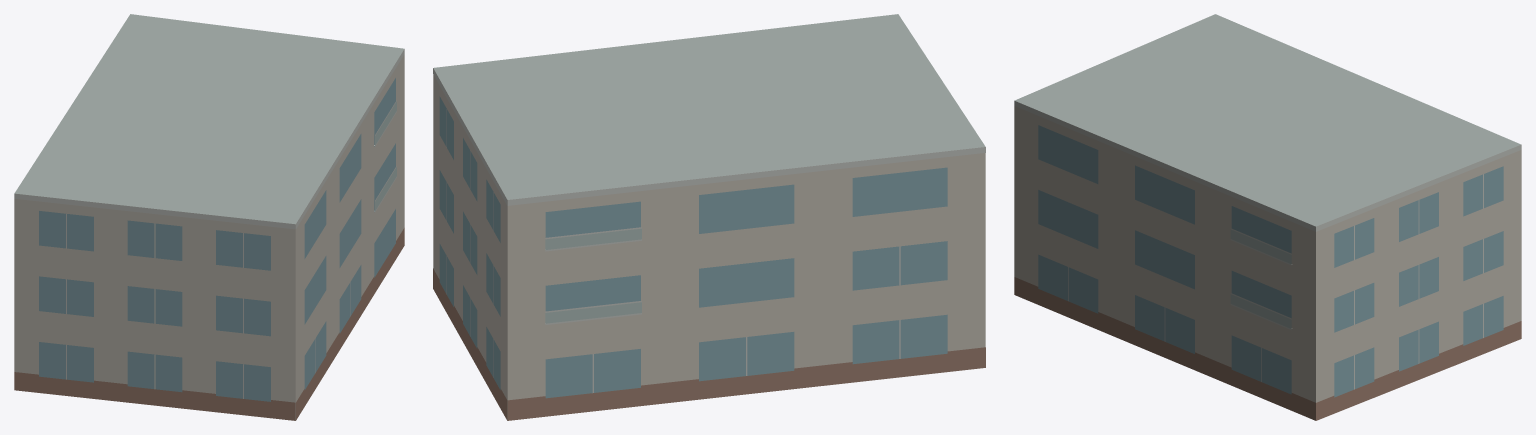
Rendered from survey-upis-32590195.glb.
The picture shows the model from 3 angles, left to right: view 1: azimuth 30°, elevation 25°; view 2: azimuth 150°, elevation 25°; view 3: azimuth 270°, elevation 25°; orthographic projection. The views are drawn at different scales.
Parts seen in each view (by area): view 1: survey-upis-32590195.tmp; view 2: survey-upis-32590195.tmp; view 3: survey-upis-32590195.tmp.
Boxes of the visible parts, left/top/right/bottom form: survey-upis-32590195.tmp: left=14, top=14, right=404, bottom=420; survey-upis-32590195.tmp: left=433, top=14, right=985, bottom=420; survey-upis-32590195.tmp: left=1014, top=14, right=1521, bottom=420.
Bounding box in the file's own units: 21.49 × 9.15 × 21.66.
